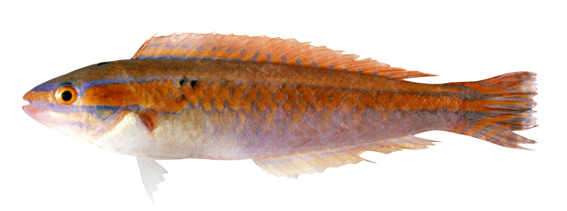fish: (21, 32, 540, 204)
